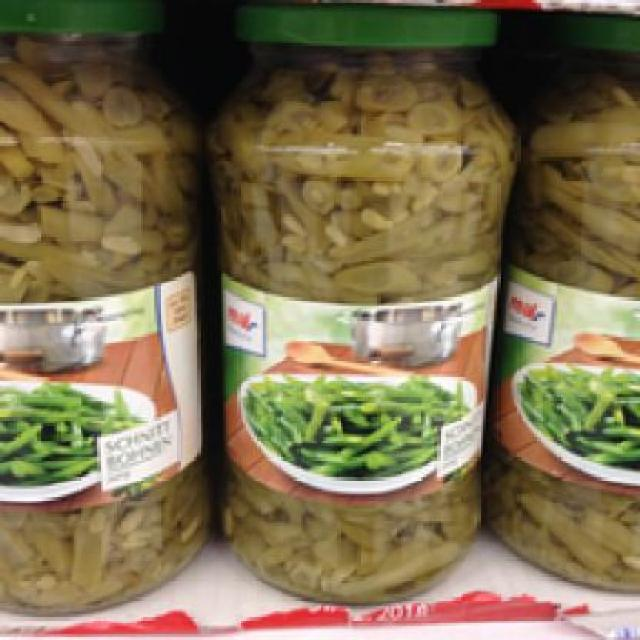Beans: (208, 6, 514, 603), (0, 0, 200, 600), (525, 3, 638, 600)
